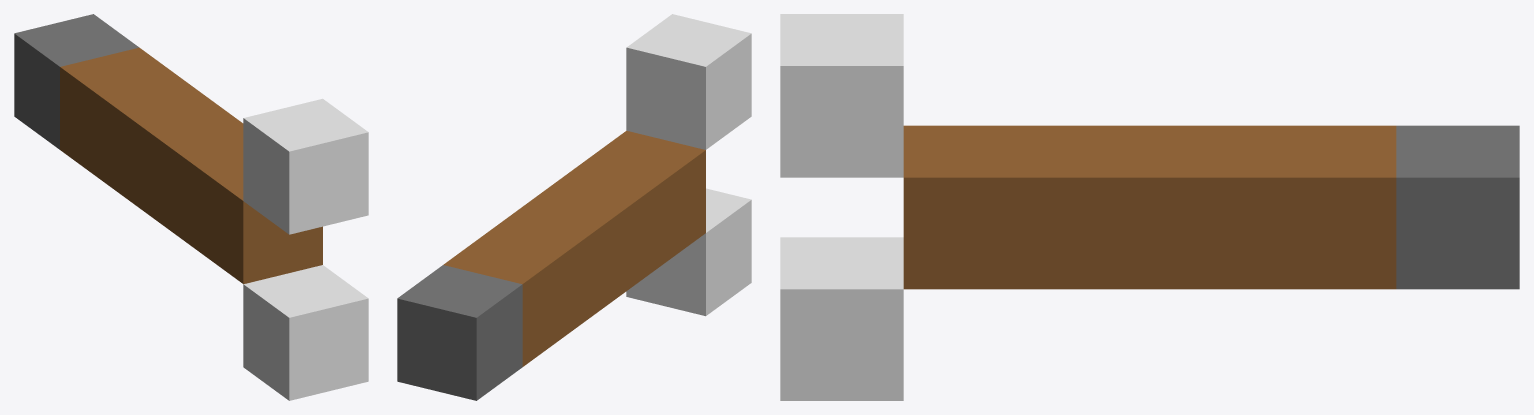
The model's file is arrow.obj.
The picture shows the model from 3 angles, left to right: view 1: azimuth 30°, elevation 25°; view 2: azimuth 150°, elevation 25°; view 3: azimuth 270°, elevation 25°; orthographic projection. The views are drawn at different scales.
Size of the model in its own units: 0.1 by 0.3 by 0.6.
